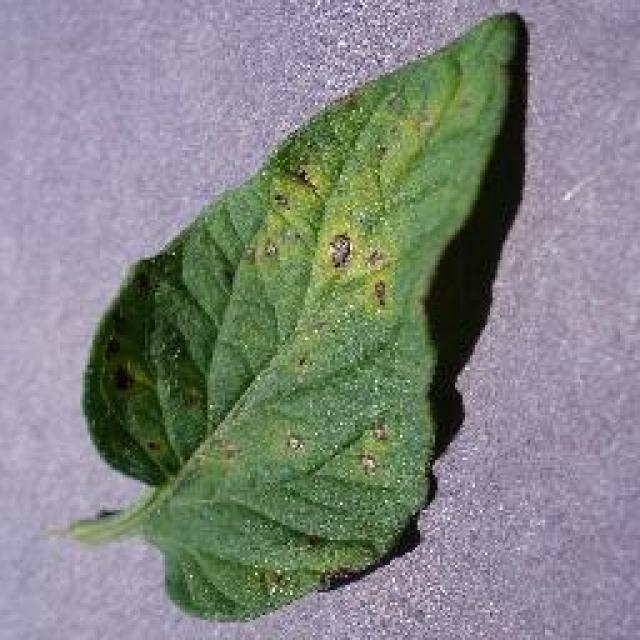Tom_Septoria_leaf_spot: (241, 125, 404, 325)
